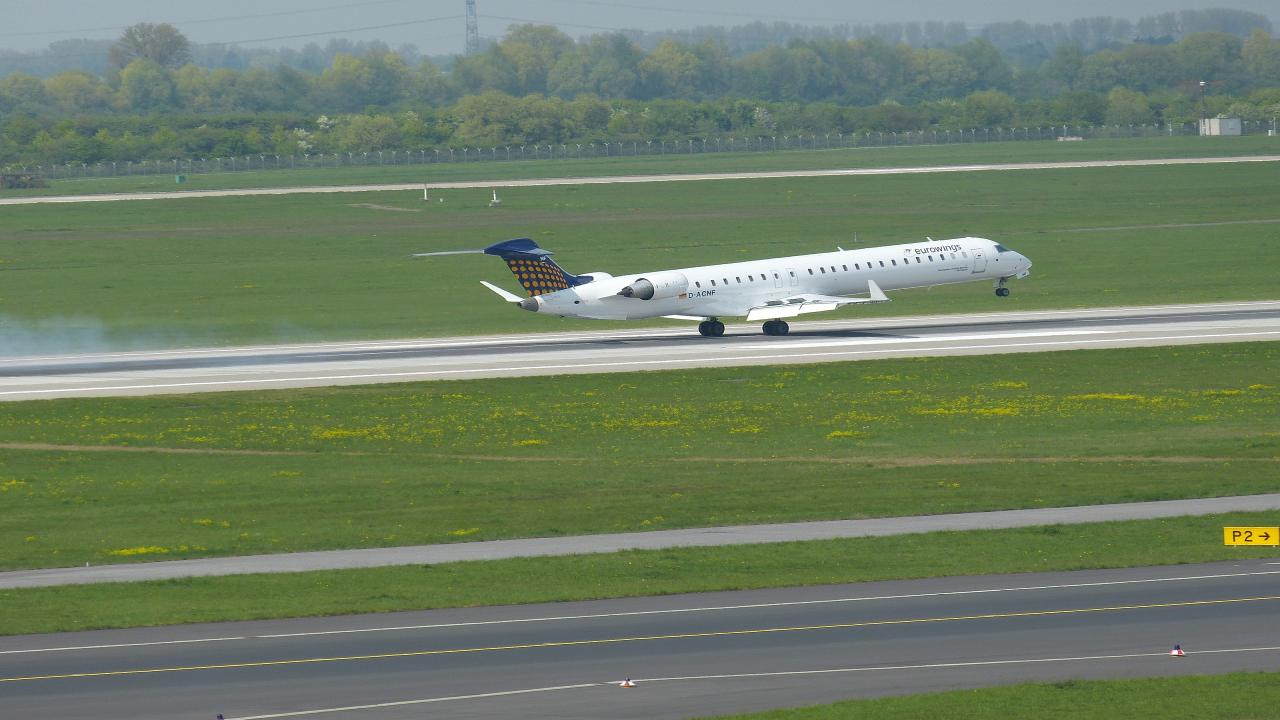Airplane: (472, 227, 1046, 348)
